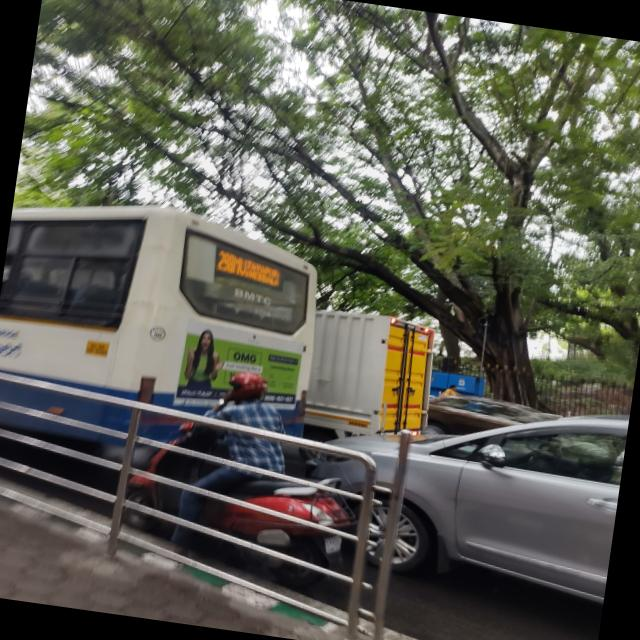bus: (0, 180, 343, 508)
display: (214, 250, 287, 290)
dnumber: (216, 250, 248, 282)
